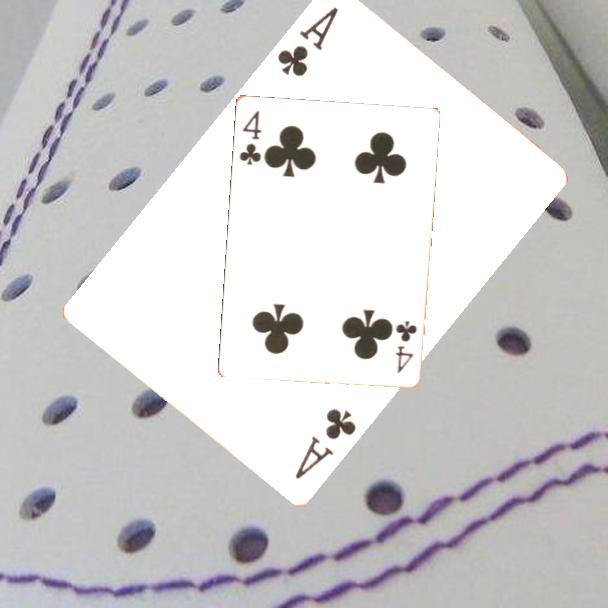c01: (291, 405, 360, 484), (273, 4, 342, 80)
c04: (236, 107, 264, 168), (392, 317, 420, 376)
